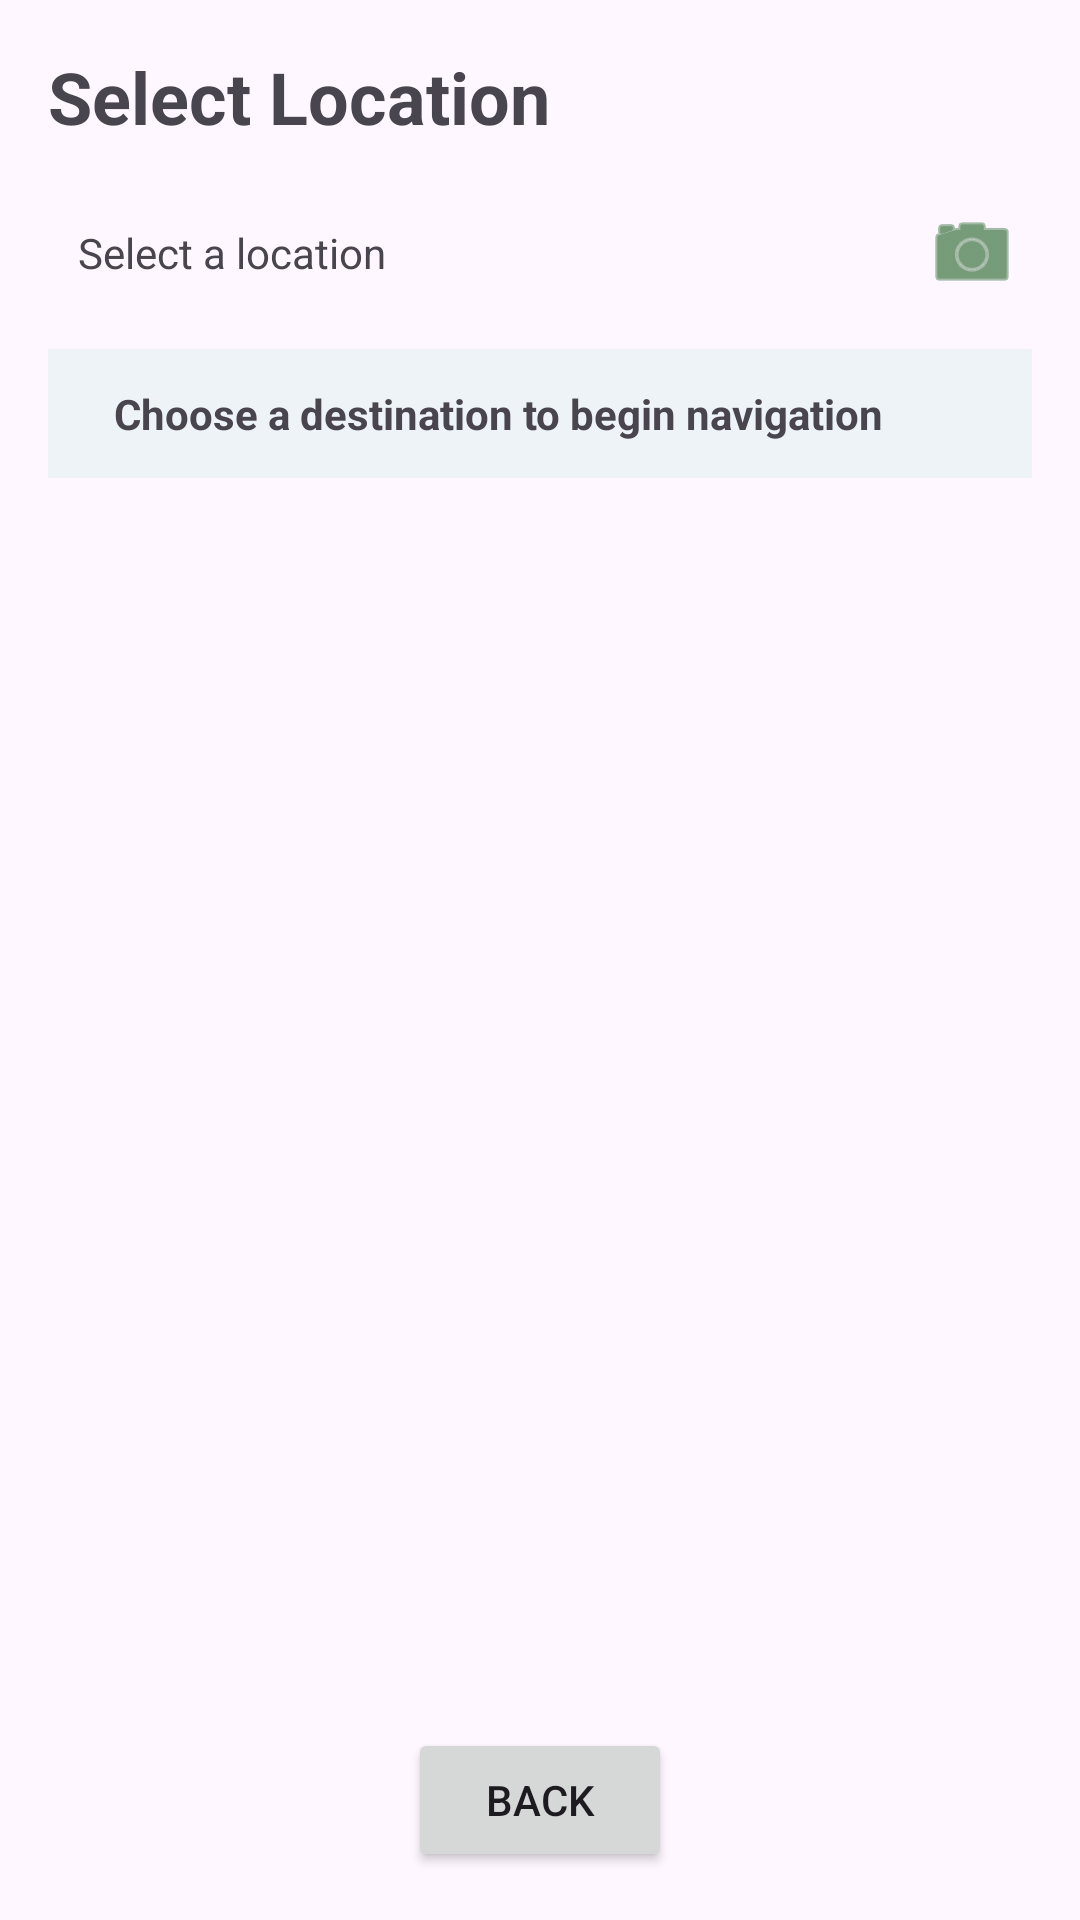

Where to tap for icons on this 1080 × 1920 app screen, as (x=x, y=y):
Capture image: (x=972, y=251)
